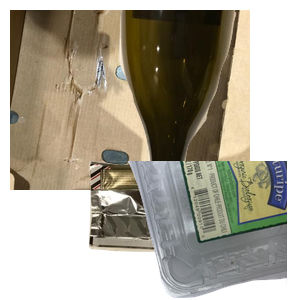cardboard: (10, 10, 250, 190)
glass: (117, 10, 300, 190)
plastic: (60, 161, 300, 300)
trash: (86, 158, 242, 300)
